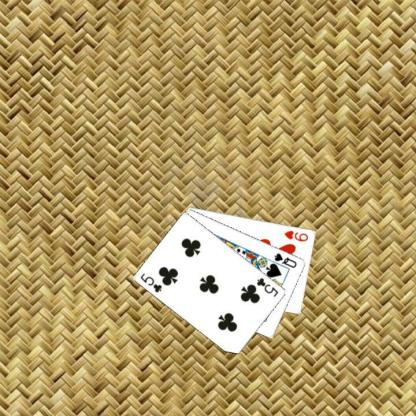5C: (254, 275, 280, 298), (138, 271, 164, 294)
9H: (282, 228, 310, 242)
QS: (272, 250, 298, 269)
